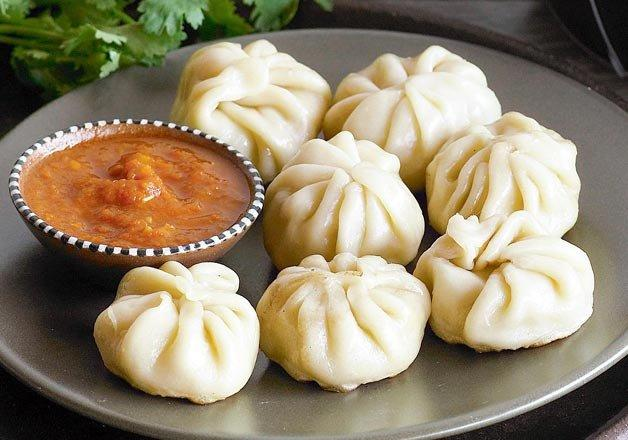momos: (323, 45, 502, 191), (413, 211, 592, 351), (256, 253, 431, 391), (94, 261, 260, 403), (170, 39, 331, 182), (264, 131, 424, 268), (427, 112, 580, 236)
